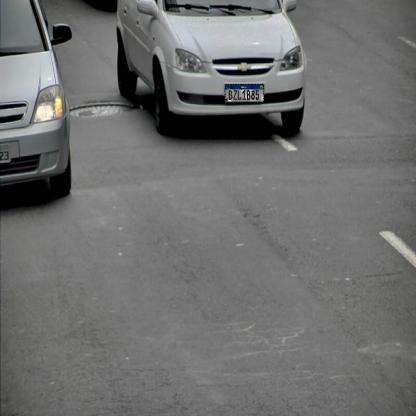PlacaM: (225, 84, 264, 103)
